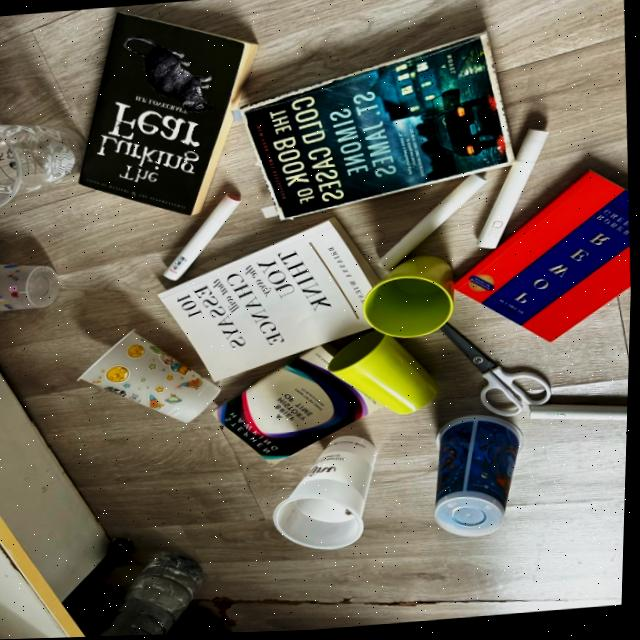Book: (244, 37, 514, 221), (81, 14, 256, 217), (160, 221, 379, 381), (457, 175, 632, 345), (221, 350, 371, 462)
HighLight Pen: (380, 178, 487, 273), (480, 135, 549, 252), (166, 196, 242, 282), (533, 407, 630, 424)
Plastic Cup: (81, 331, 223, 424), (276, 438, 379, 551), (439, 419, 525, 540), (0, 124, 85, 207), (0, 265, 60, 312)
Scissors: (442, 325, 555, 420)
WaterGlass: (331, 333, 440, 416), (365, 258, 455, 340)
